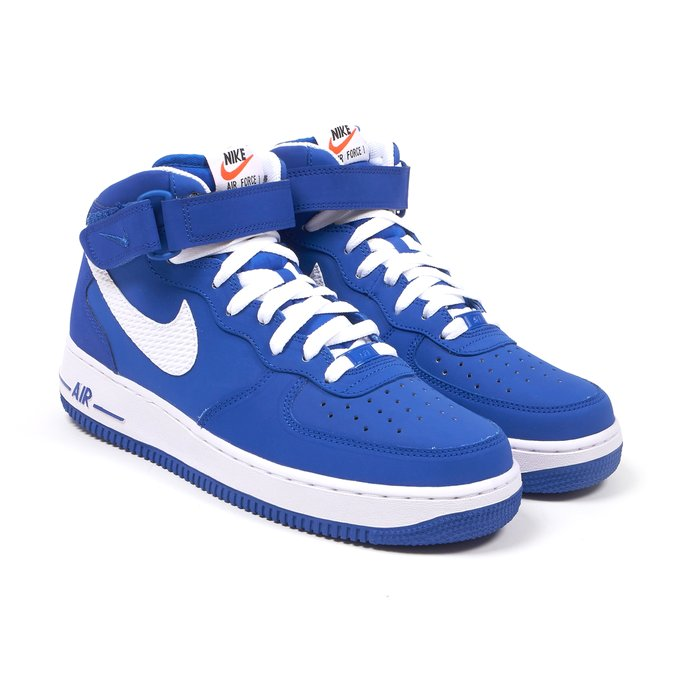Air Force One Blue: (57, 144, 529, 558), (264, 128, 630, 506)
